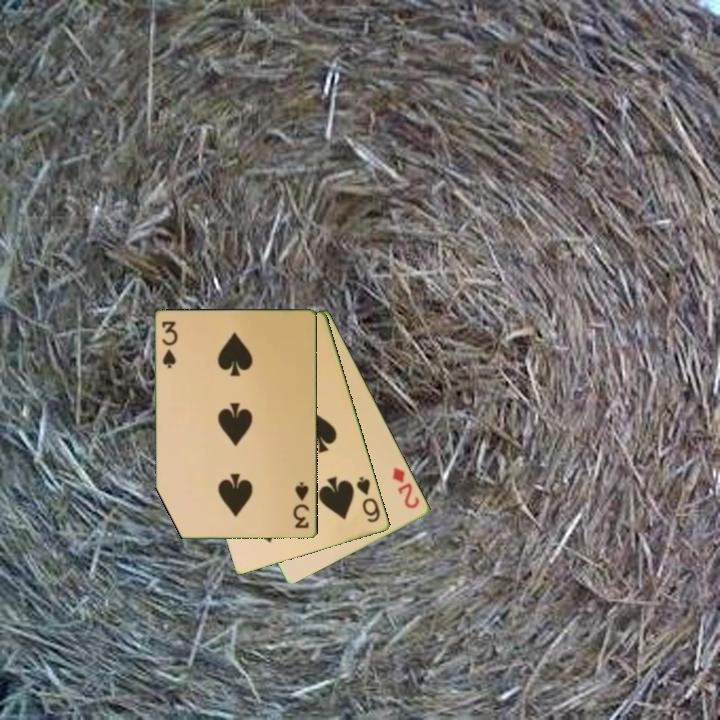2d: (389, 464, 423, 512)
3s: (159, 318, 181, 371), (291, 479, 312, 532)
6s: (353, 473, 383, 526)
